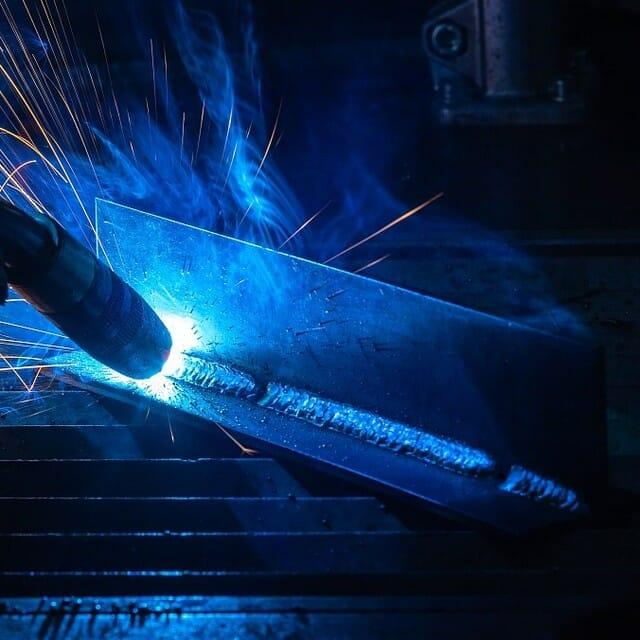welding: (163, 316, 207, 387), (129, 363, 191, 392)
